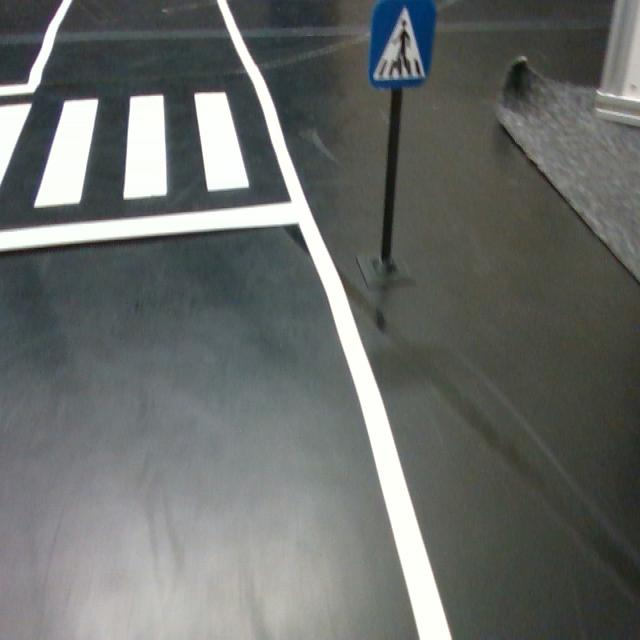crosswalk-sign: (368, 0, 438, 88)
